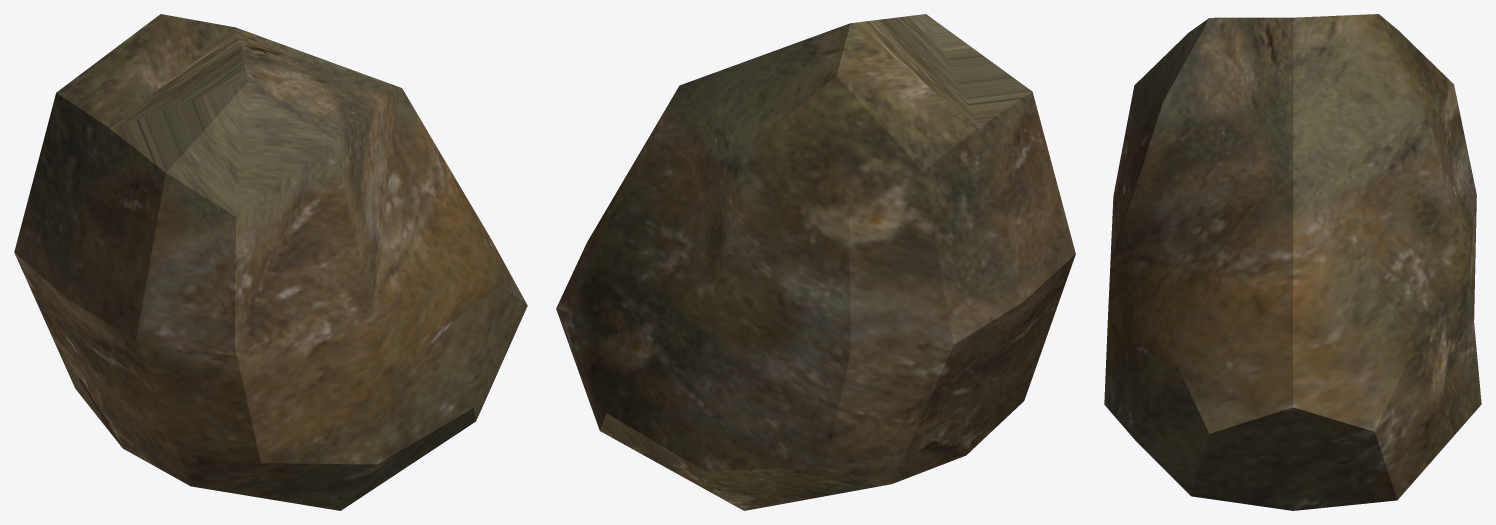
File: rock.fbx
The picture shows the model from 3 angles, left to right: view 1: azimuth 30°, elevation 25°; view 2: azimuth 150°, elevation 25°; view 3: azimuth 270°, elevation 25°; orthographic projection. The views are drawn at different scales.
Parts seen in each view (by area): view 1: rock; view 2: rock; view 3: rock.
Boxes of the visible parts, <box> form: rock: <box>14,14,527,510</box>; rock: <box>556,14,1075,510</box>; rock: <box>1104,14,1481,510</box>.
Bounding box in the file's own units: 0.9656 × 0.9899 × 0.764.
